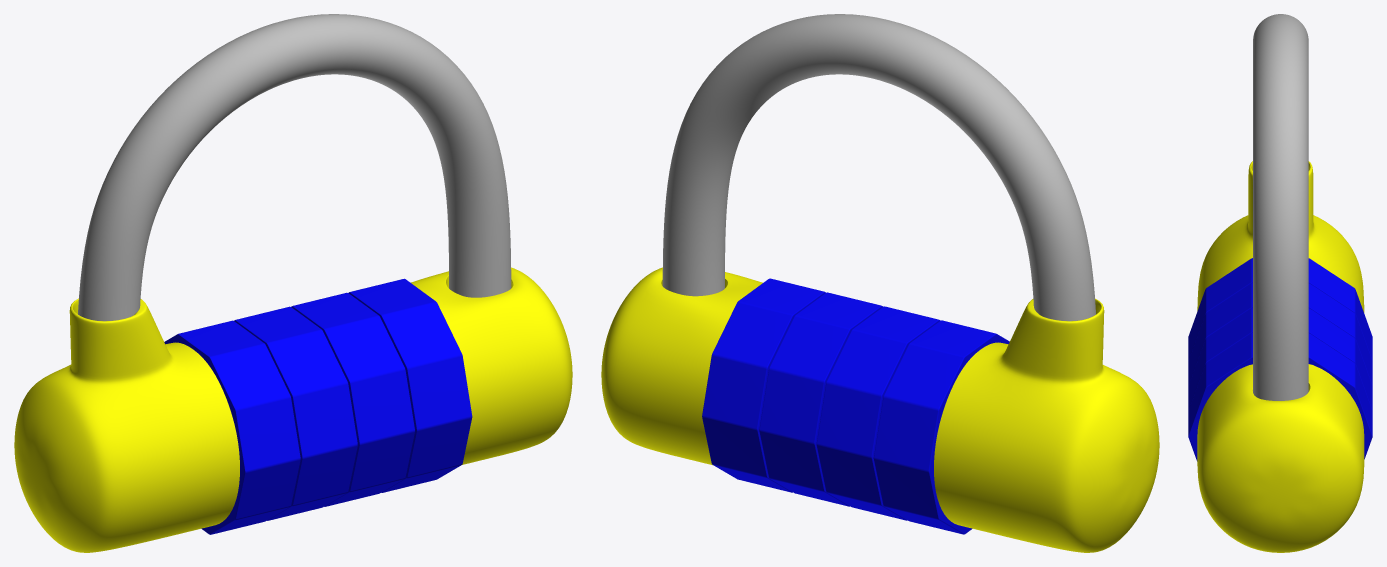
Rendered from CodeLockAlph.fbx.
3 views of the same model, side by side, from view 1: azimuth 30°, elevation 25°; view 2: azimuth 150°, elevation 25°; view 3: azimuth 270°, elevation 25° (orthographic). The views are drawn at different scales.
Visible parts, largest first — view 1: lowerBody, upperBody, ger1, ger3, ger4, ger2; view 2: lowerBody, upperBody, ger1, ger4, ger2, ger3; view 3: lowerBody, upperBody, ger4, ger2, ger3, ger1.
Boxes of the visible parts, <box> form: lowerBody: <box>14,267,572,552</box>; upperBody: <box>78,14,511,321</box>; ger1: <box>164,320,300,534</box>; ger3: <box>291,292,414,506</box>; ger4: <box>348,278,472,492</box>; ger2: <box>234,306,357,520</box>; lowerBody: <box>601,267,1159,552</box>; upperBody: <box>662,14,1095,321</box>; ger1: <box>873,320,1009,534</box>; ger4: <box>702,278,825,492</box>; ger2: <box>816,306,940,520</box>; ger3: <box>759,292,883,506</box>; lowerBody: <box>1197,161,1364,552</box>; upperBody: <box>1253,14,1308,400</box>; ger4: <box>1188,333,1372,461</box>; ger2: <box>1188,283,1372,385</box>; ger3: <box>1188,308,1372,410</box>; ger1: <box>1188,258,1372,360</box>.
Size of the model in its own units: 6.91 by 6.11 by 2.39.
